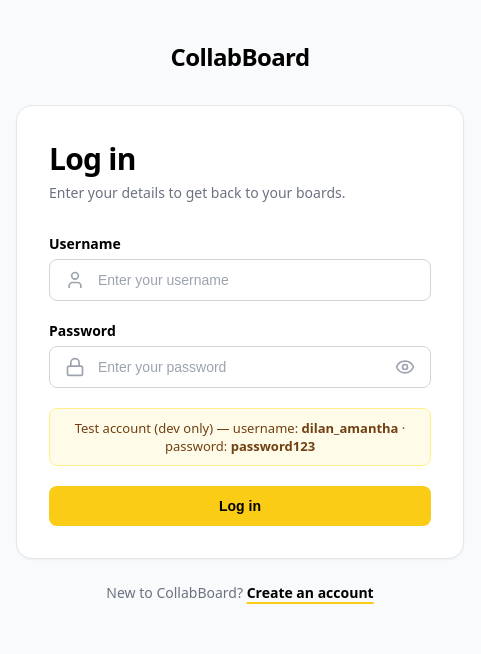
Test: LoginForm › shows the rate limiter's message rather than a generic failure
Type "dilan_amantha" into the field labelled "Username" at (240, 280), box [49,259,431,301]
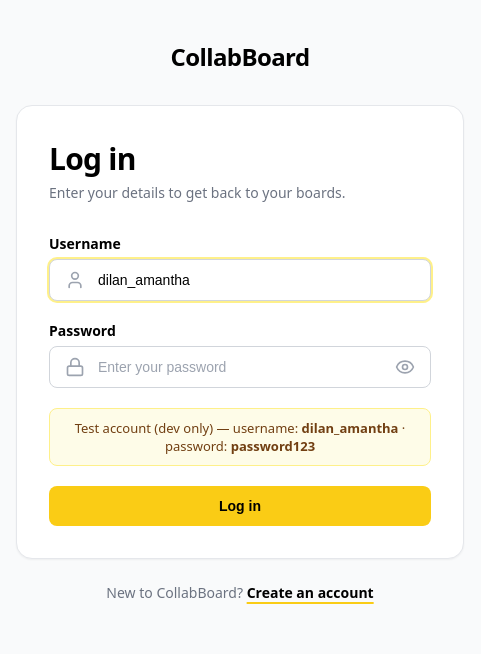
Type "wrong-password" into the password field labelled "Password" at (240, 367), box [49,346,431,388]
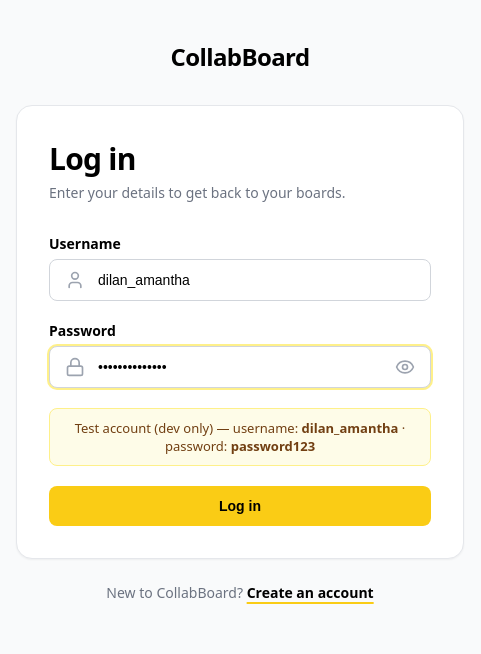
Click the button "Log in" at (240, 506), box [49,486,431,526]
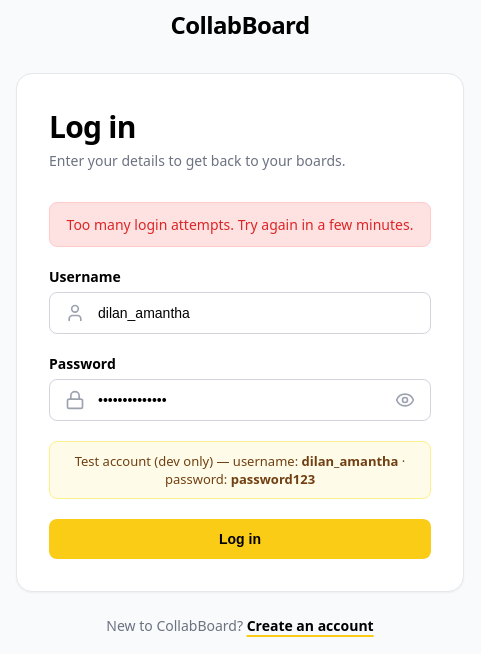
Expected: the text "Too many login attempts. Try again in a few minutes." is shown, [49,202,431,246]
